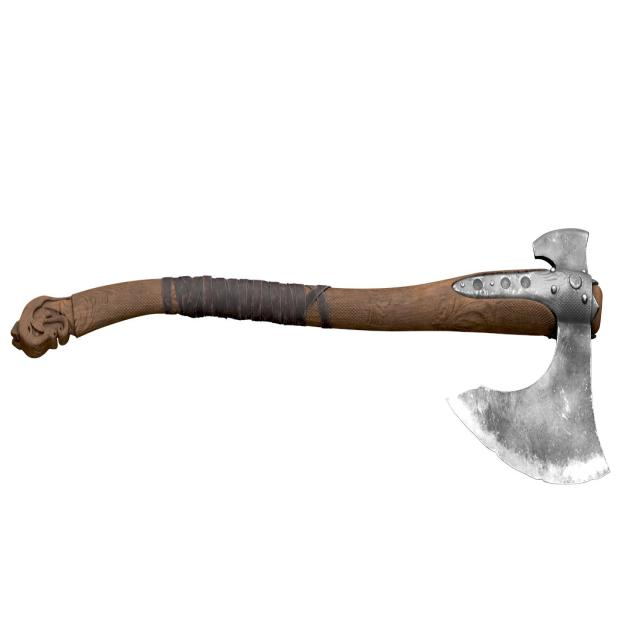Gun: (4, 202, 623, 492)
